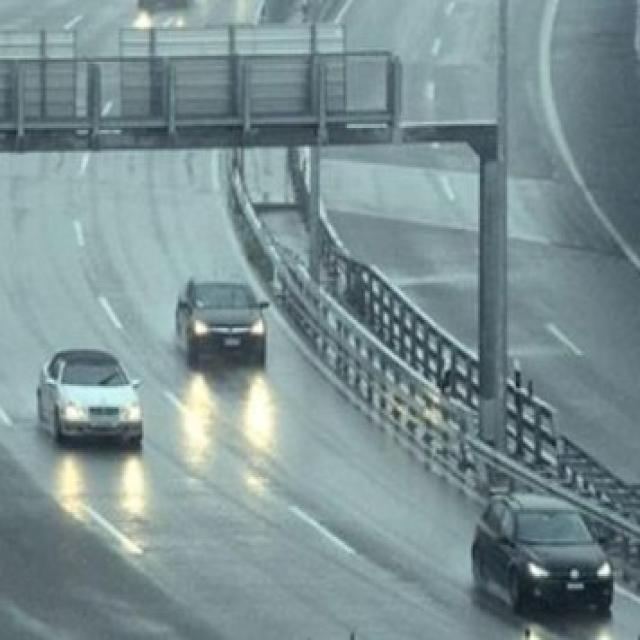car: (470, 491, 618, 619), (35, 347, 144, 445), (173, 273, 269, 371)
